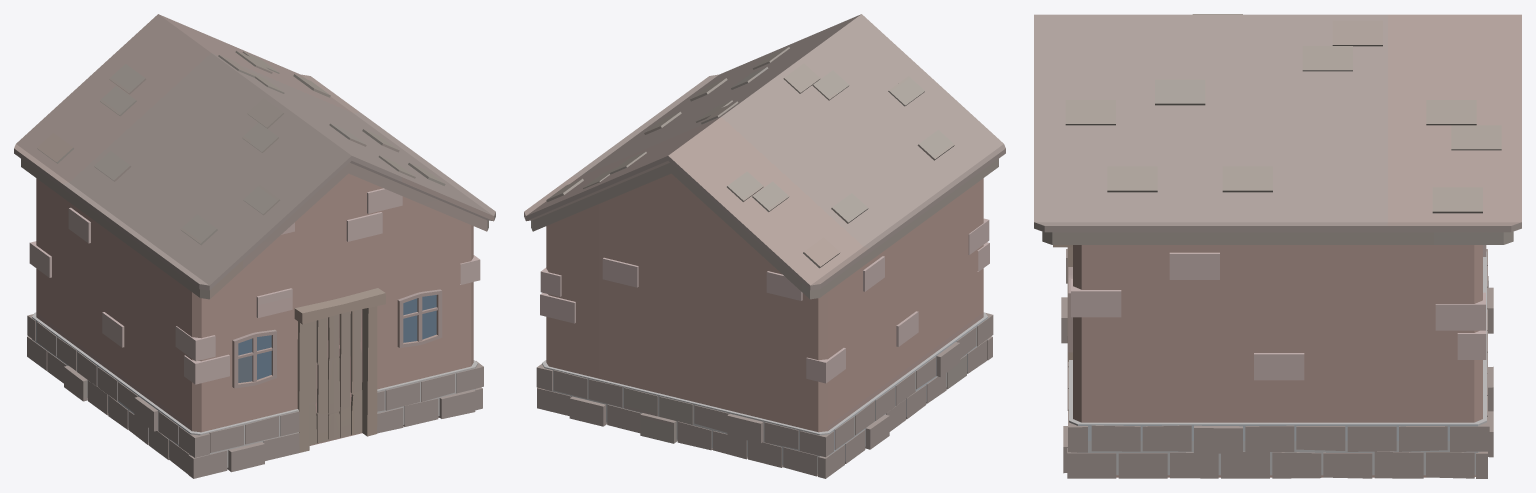
The model's file is cottage-gable.glb.
3 renders of one model, left to right at view 1: azimuth 30°, elevation 25°; view 2: azimuth 150°, elevation 25°; view 3: azimuth 270°, elevation 25°, orthographic. The views are drawn at different scales.
Visible parts, largest first — view 1: 1Story_GableRoof; view 2: 1Story_GableRoof; view 3: 1Story_GableRoof.
Boxes of the visible parts, x1,y1,x2,y2 form: 1Story_GableRoof: (14,14,495,478); 1Story_GableRoof: (524,14,1005,478); 1Story_GableRoof: (1034,14,1521,478).
Bounding box in the file's own units: 0.8845 × 0.8506 × 1.
Materials: 1 (1 with a texture image).
